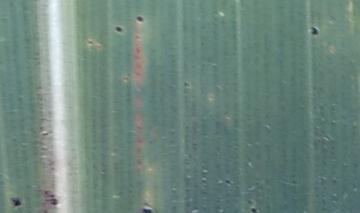tarspot: (47, 191, 57, 206), (10, 197, 22, 207), (114, 24, 124, 34), (310, 25, 318, 35), (142, 206, 153, 213), (87, 37, 95, 45), (250, 206, 258, 213), (184, 81, 191, 88), (224, 178, 232, 184), (137, 15, 143, 22)
